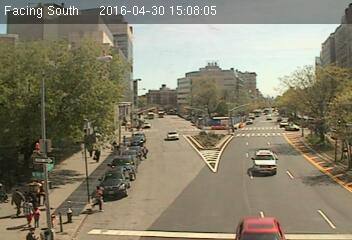neg: (179, 147, 206, 182), (102, 24, 127, 56), (48, 161, 72, 192), (136, 64, 160, 95), (250, 139, 273, 170), (215, 78, 237, 108), (121, 168, 143, 198), (99, 107, 120, 136), (72, 61, 93, 90), (283, 84, 303, 111), (191, 79, 210, 104), (33, 135, 51, 159), (13, 57, 29, 78), (319, 64, 335, 85), (186, 44, 197, 59), (255, 106, 264, 118), (283, 123, 292, 135), (143, 120, 152, 132), (165, 132, 172, 142), (161, 105, 168, 115)
pos: (16, 196, 37, 225), (5, 185, 26, 213), (84, 184, 103, 210), (138, 142, 152, 160), (92, 146, 103, 161), (33, 208, 44, 222)
